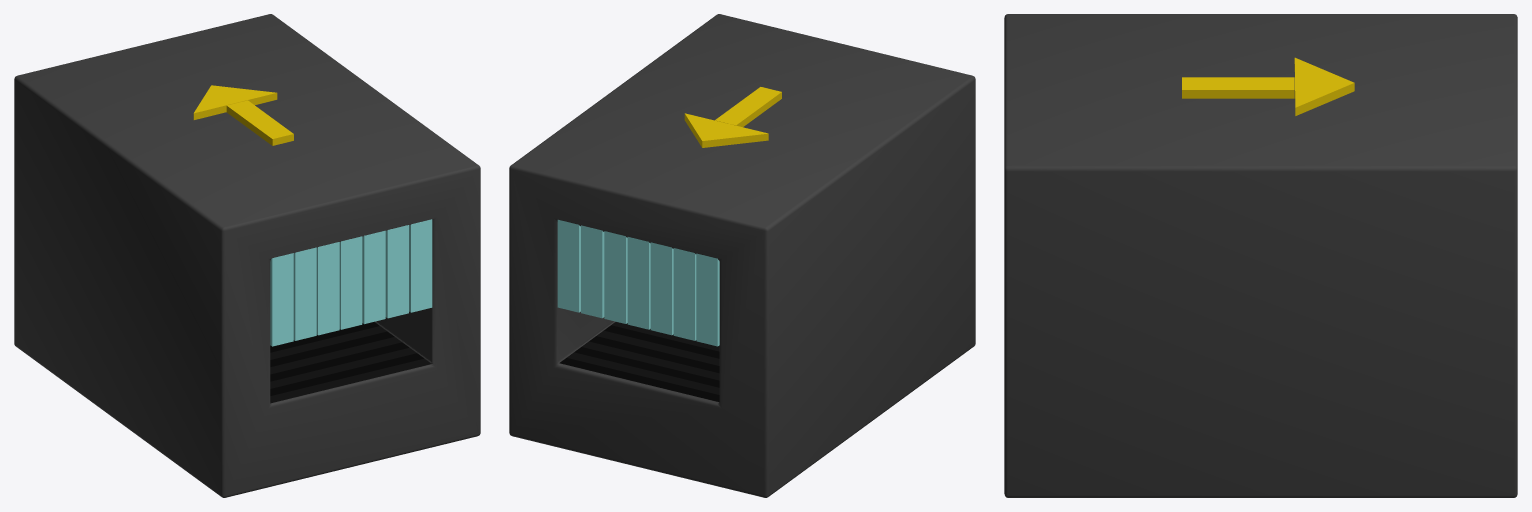
File: ore_washer.fbx
3 views of the same model, side by side, from view 1: azimuth 30°, elevation 25°; view 2: azimuth 150°, elevation 25°; view 3: azimuth 270°, elevation 25° (orthographic). The views are drawn at different scales.
Visible parts, largest first — view 1: Cube, LightBelt.001, BlackBelt.001, Cube.003, Cube.005, Cube.001, Cube.007, Cube.002, Cube.004, Cube.006, Cube.016, Cube.015; view 2: Cube, BlackBelt.002, LightBelt.002, Cube.011, Cube.013, Cube.008, Cube.009, Cube.010, Cube.012, Cube.014, Cube.016, Cube.015; view 3: Cube, Cube.015, Cube.016.
Part boxes in pixels (x1,y1,x2,y2): Cube: (14, 14, 480, 497); LightBelt.001: (270, 326, 432, 403); BlackBelt.001: (270, 322, 423, 395); Cube.003: (316, 242, 339, 335); Cube.005: (362, 230, 385, 324); Cube.001: (270, 253, 293, 346); Cube.007: (409, 219, 432, 312); Cube.002: (293, 247, 316, 340); Cube.004: (339, 236, 362, 329); Cube.006: (385, 225, 408, 318); Cube.016: (193, 85, 277, 119); Cube.015: (226, 100, 293, 145); Cube: (509, 14, 975, 497); BlackBelt.002: (559, 325, 719, 402); LightBelt.002: (567, 322, 719, 394); Cube.011: (627, 237, 650, 329); Cube.013: (673, 248, 696, 340); Cube.008: (557, 219, 580, 312); Cube.009: (581, 225, 604, 318); Cube.010: (604, 231, 627, 323); Cube.012: (650, 242, 673, 335); Cube.014: (696, 253, 719, 346); Cube.016: (684, 113, 768, 147); Cube.015: (715, 87, 781, 127); Cube: (1004, 14, 1517, 497); Cube.015: (1182, 77, 1294, 98); Cube.016: (1294, 57, 1354, 115).
Size of the model in its own units: 70.28 by 71.92 by 98.33.
